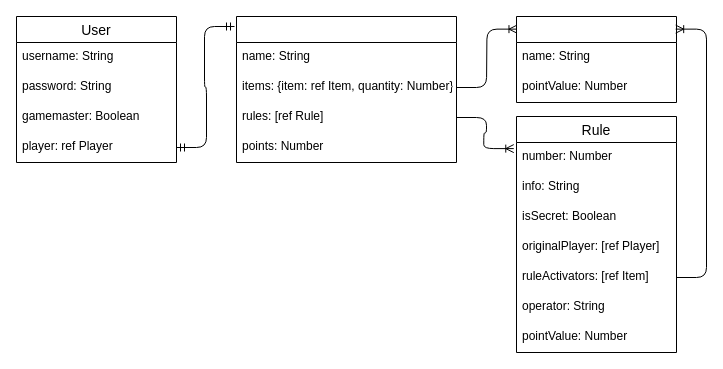
Some shapes in this 723 by 369 pixel diagram are drawn without their labels. The shapes that lost their labels are listed below. From the top down, each one's box as (x1, y1, x2, y2) in pixels, then its label:
(516, 16, 676, 102): Item
(236, 16, 456, 162): Player
